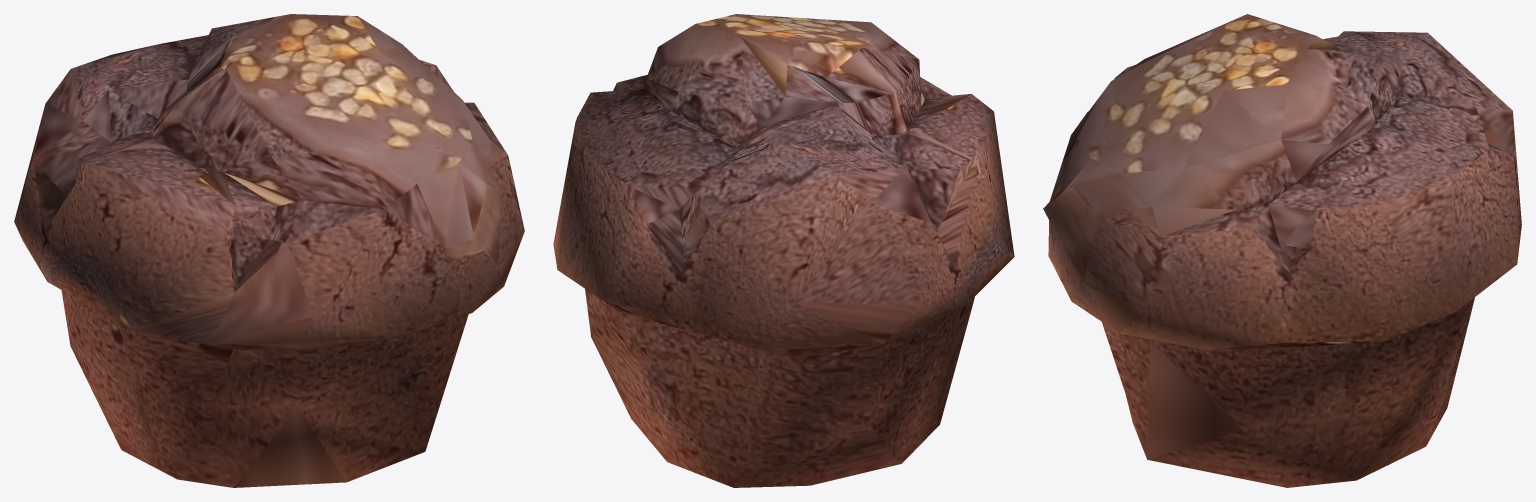
The model's file is muffin_236.obj.
3 renders of one model, left to right at view 1: azimuth 30°, elevation 25°; view 2: azimuth 150°, elevation 25°; view 3: azimuth 270°, elevation 25°, orthographic. The views are drawn at different scales.
Bounding box in the file's own units: 14.13 × 12.94 × 14.38.
Materials: 1 (1 with a texture image).
